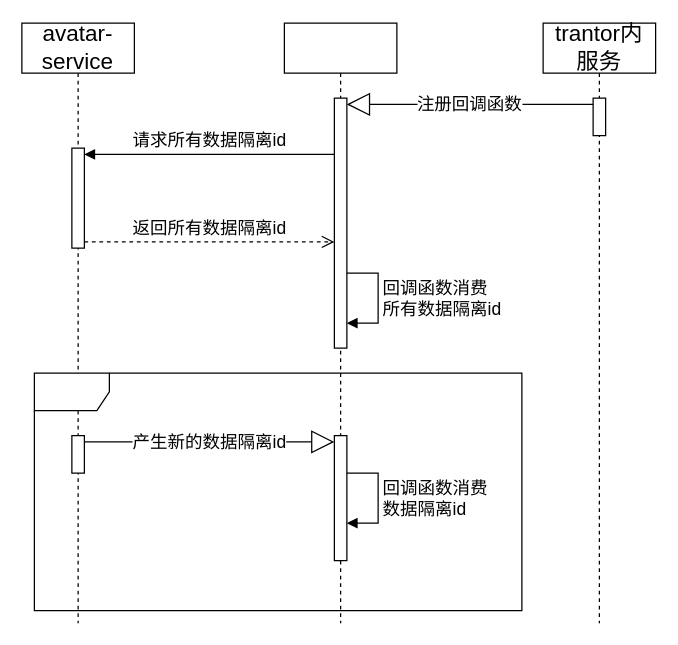
This 678x645 diagram has some shape labels left out. Each missing label, with the centre of its shape:
"avatar-lib" goes at (x=340, y=322).
"Loop" goes at (x=277, y=491).
